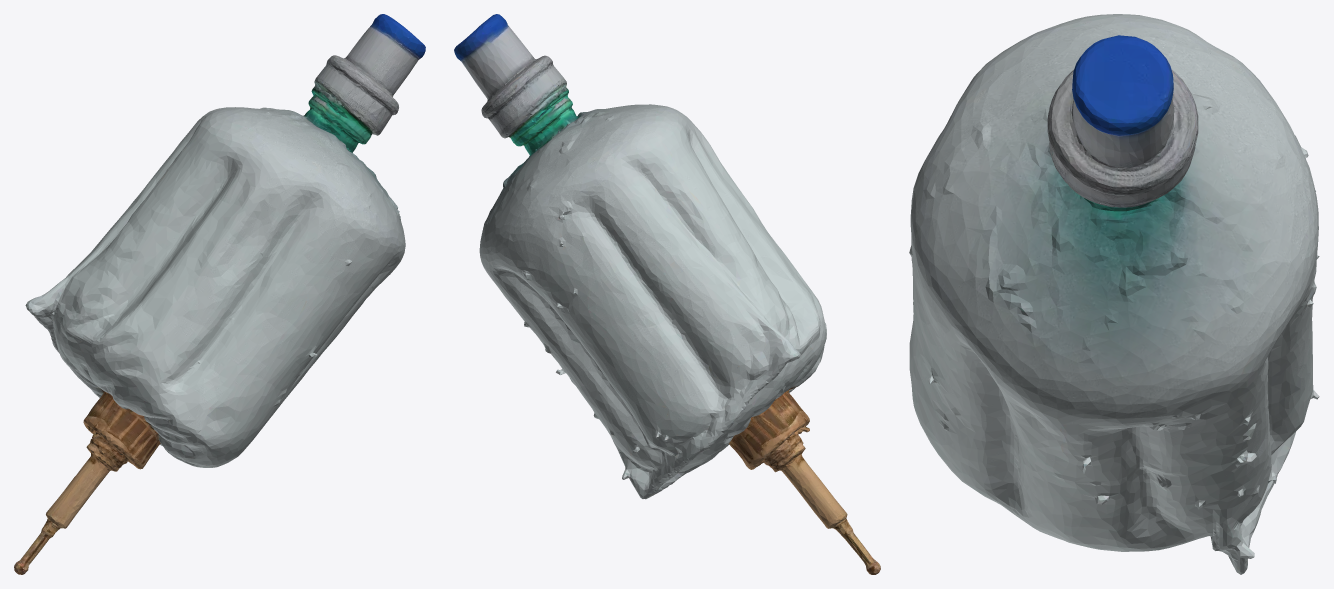
The model's file is head (101).glb.
The picture shows the model from 3 angles, left to right: view 1: azimuth 30°, elevation 25°; view 2: azimuth 150°, elevation 25°; view 3: azimuth 270°, elevation 25°; orthographic projection. The views are drawn at different scales.
Visible parts, largest first — view 1: Hy21_Mesh.obj; view 2: Hy21_Mesh.obj; view 3: Hy21_Mesh.obj.
Part boxes in pixels (bbox=[...]): Hy21_Mesh.obj: bbox=[14, 14, 425, 574]; Hy21_Mesh.obj: bbox=[454, 14, 880, 574]; Hy21_Mesh.obj: bbox=[909, 14, 1319, 574].
Size of the model in its own units: 1.82 by 1.96 by 0.9251.
Materials: 1 (1 with a texture image).
